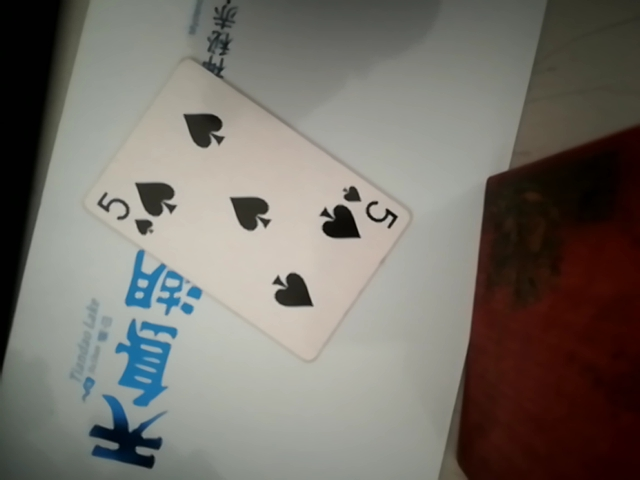ht 5: (104, 49, 409, 356)
